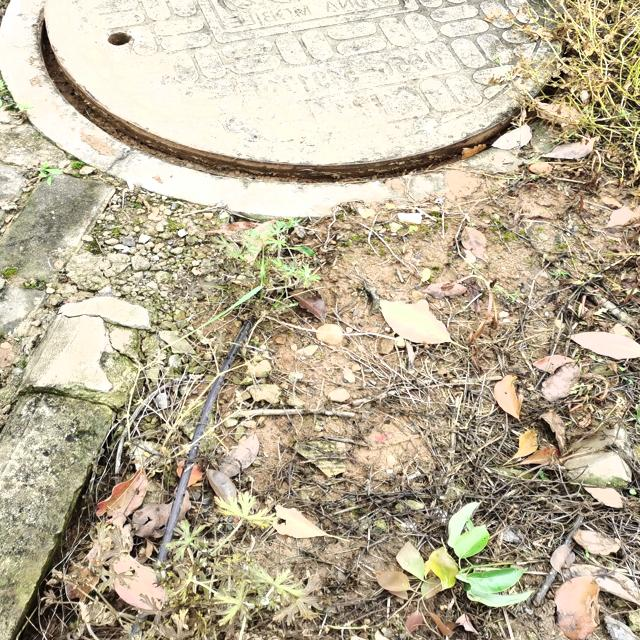uncovered: (0, 0, 560, 215)
